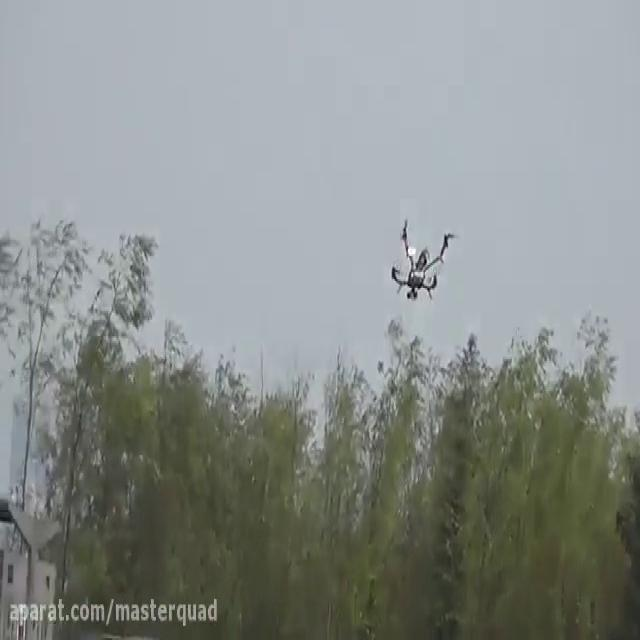drone: (384, 210, 461, 304)
